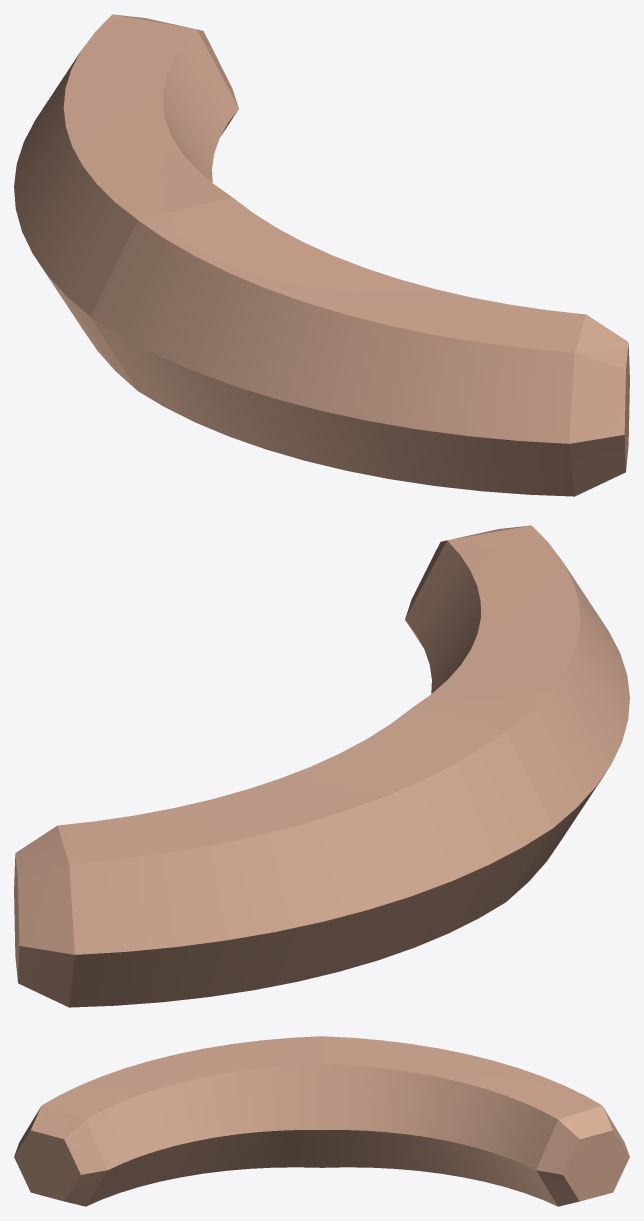
The model's file is sausage.glb.
3 views of the same model, one above another, from view 1: azimuth 30°, elevation 25°; view 2: azimuth 150°, elevation 25°; view 3: azimuth 270°, elevation 25° (orthographic). The views are drawn at different scales.
Visible parts, largest first — view 1: meatSausage; view 2: meatSausage; view 3: meatSausage.
Boxes of the visible parts, x1,y1,x2,y2 form: meatSausage: [14, 14, 629, 496]; meatSausage: [14, 525, 629, 1007]; meatSausage: [14, 1036, 629, 1206].
Bounding box in the file's own units: 0.1515 × 0.0727 × 0.3916.
